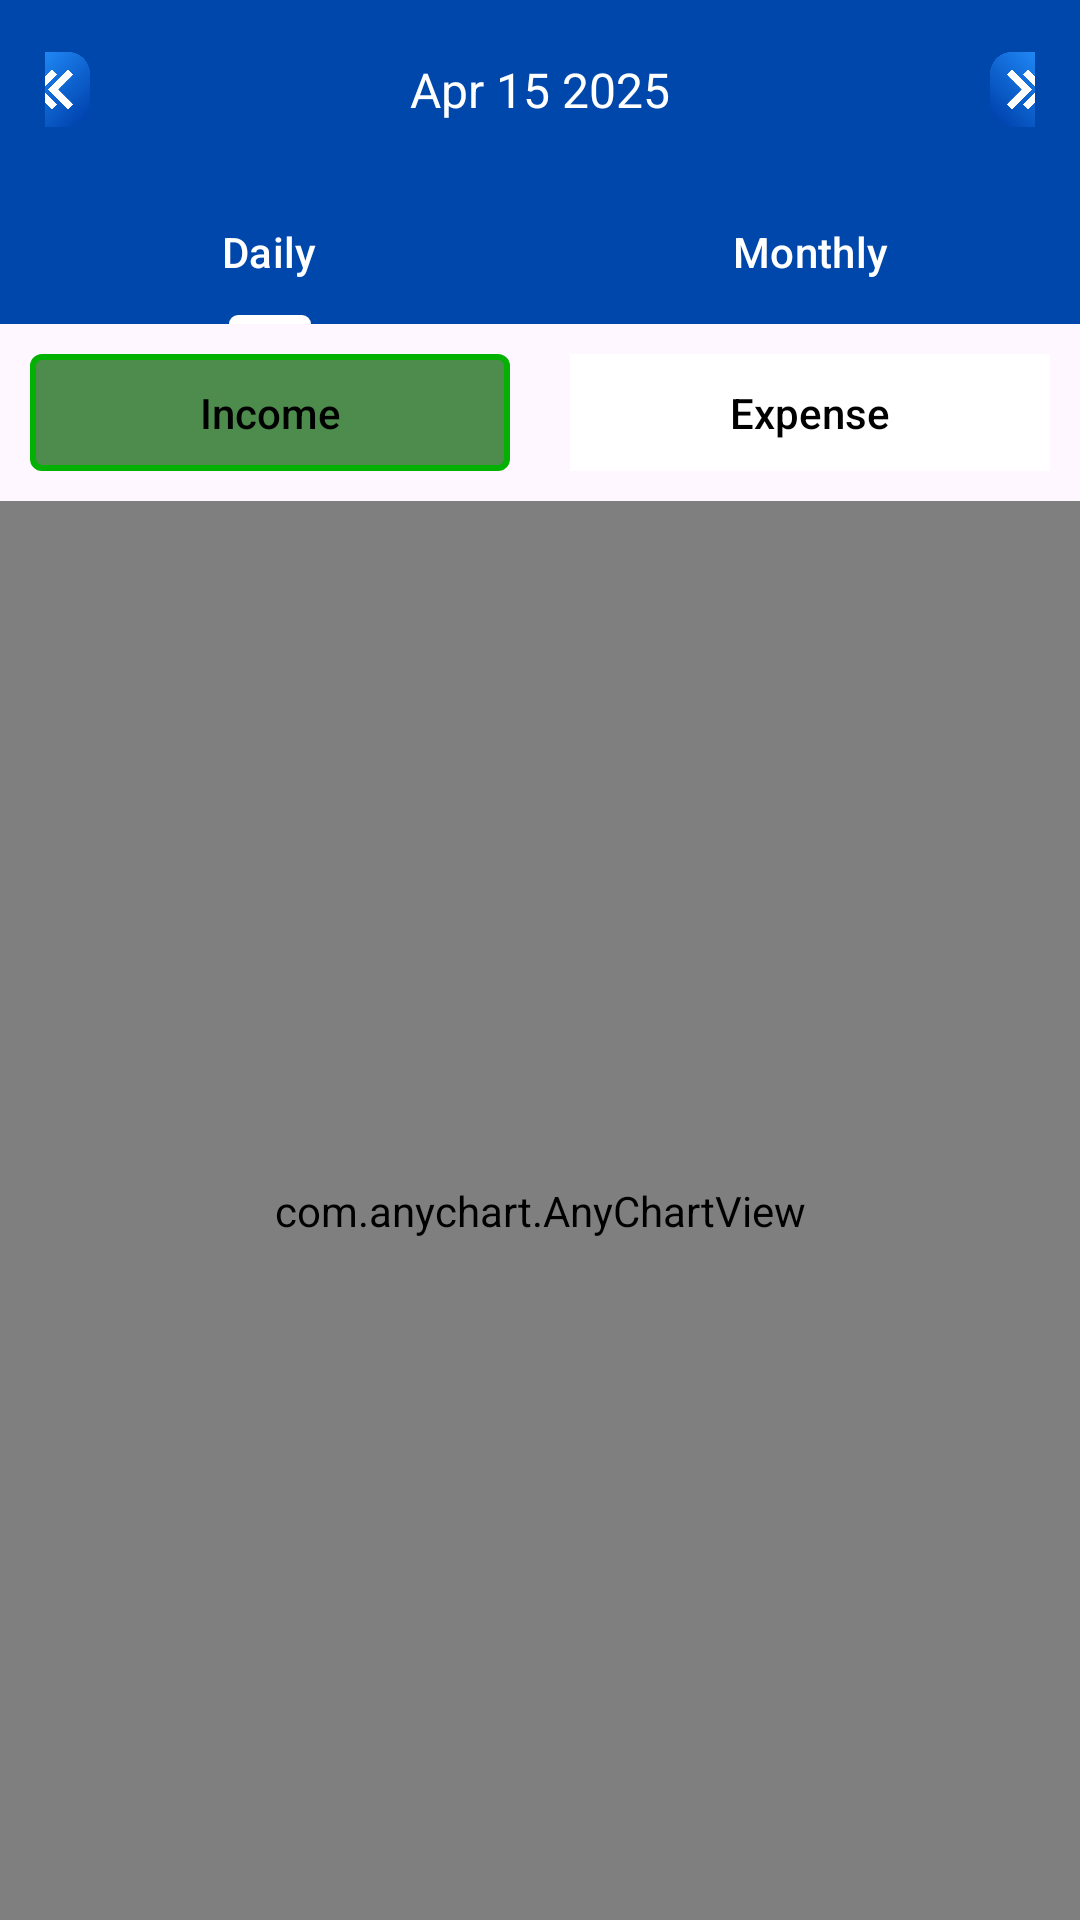

Icon bounding boxes for this 1080×1920 phone screenshot, format (x1, y1, x2, y2):
left: (45, 52, 90, 126)
right: (990, 52, 1035, 126)
